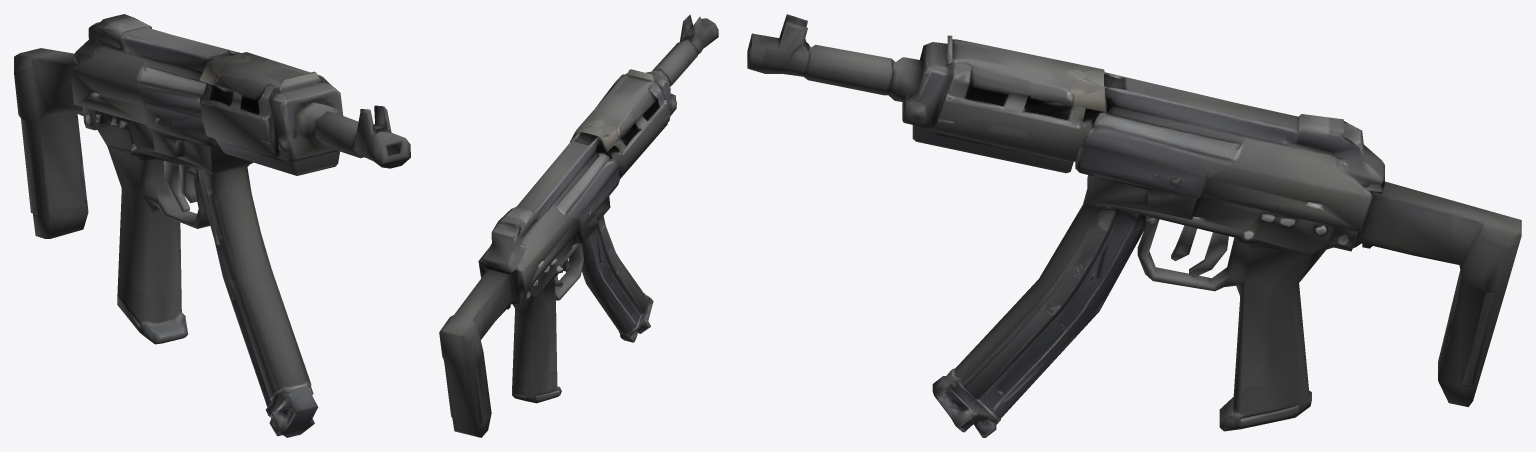
The model's file is tripo-smg.glb.
The picture shows the model from 3 angles, left to right: view 1: azimuth 30°, elevation 25°; view 2: azimuth 150°, elevation 25°; view 3: azimuth 270°, elevation 25°; orthographic projection. The views are drawn at different scales.
Visible parts, largest first — view 1: tripo_node_bf2df1d3-6546-4ec5-a861-105a7b84052a; view 2: tripo_node_bf2df1d3-6546-4ec5-a861-105a7b84052a; view 3: tripo_node_bf2df1d3-6546-4ec5-a861-105a7b84052a.
Boxes of the visible parts, x1,y1,x2,y2 form: tripo_node_bf2df1d3-6546-4ec5-a861-105a7b84052a: (14,14,410,437); tripo_node_bf2df1d3-6546-4ec5-a861-105a7b84052a: (439,14,718,437); tripo_node_bf2df1d3-6546-4ec5-a861-105a7b84052a: (747,14,1521,437).
Size of the model in its own units: 0.1155 by 0.593 by 0.998.
1 material, 1 textured.
